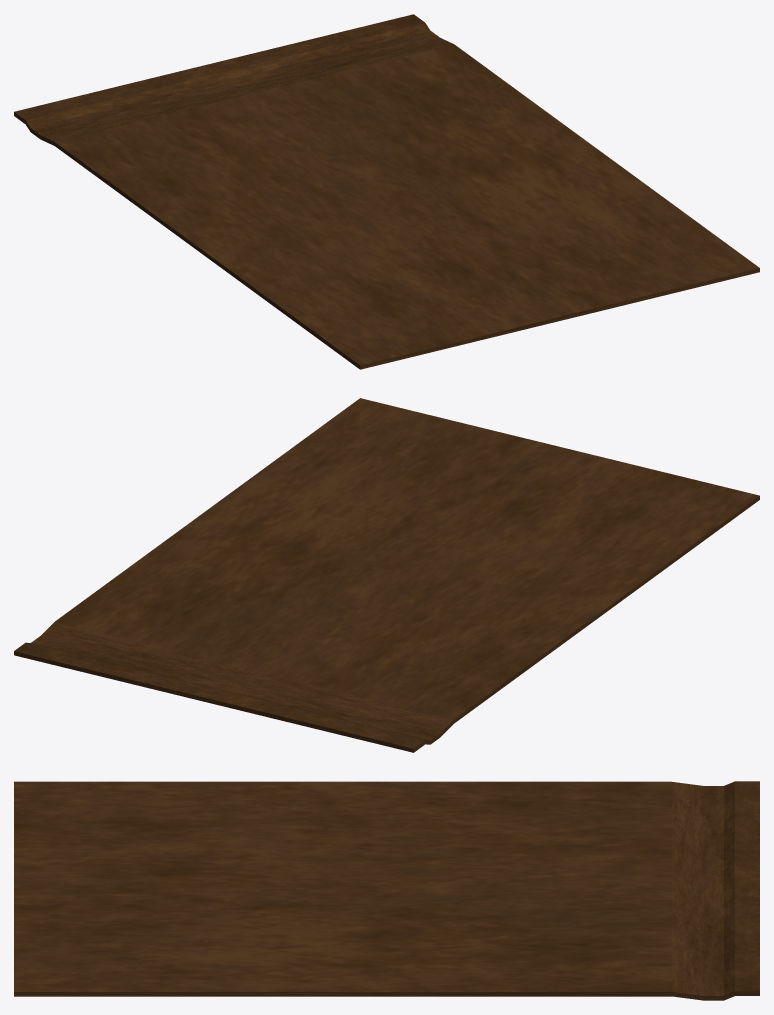
The model's file is map_1.glb.
3 renders of one model, top to bottom at view 1: azimuth 30°, elevation 25°; view 2: azimuth 150°, elevation 25°; view 3: azimuth 270°, elevation 25°, orthographic. The views are drawn at different scales.
Visible parts, largest first — view 1: Cube; view 2: Cube; view 3: Cube.
Boxes of the visible parts, <box> form: Cube: <box>14,14,759,369</box>; Cube: <box>14,398,759,752</box>; Cube: <box>14,781,759,1000</box>.
Size of what is drawn, in the model's own units: 200 by 3.97 by 300.
Materials: 1 (1 with a texture image).
